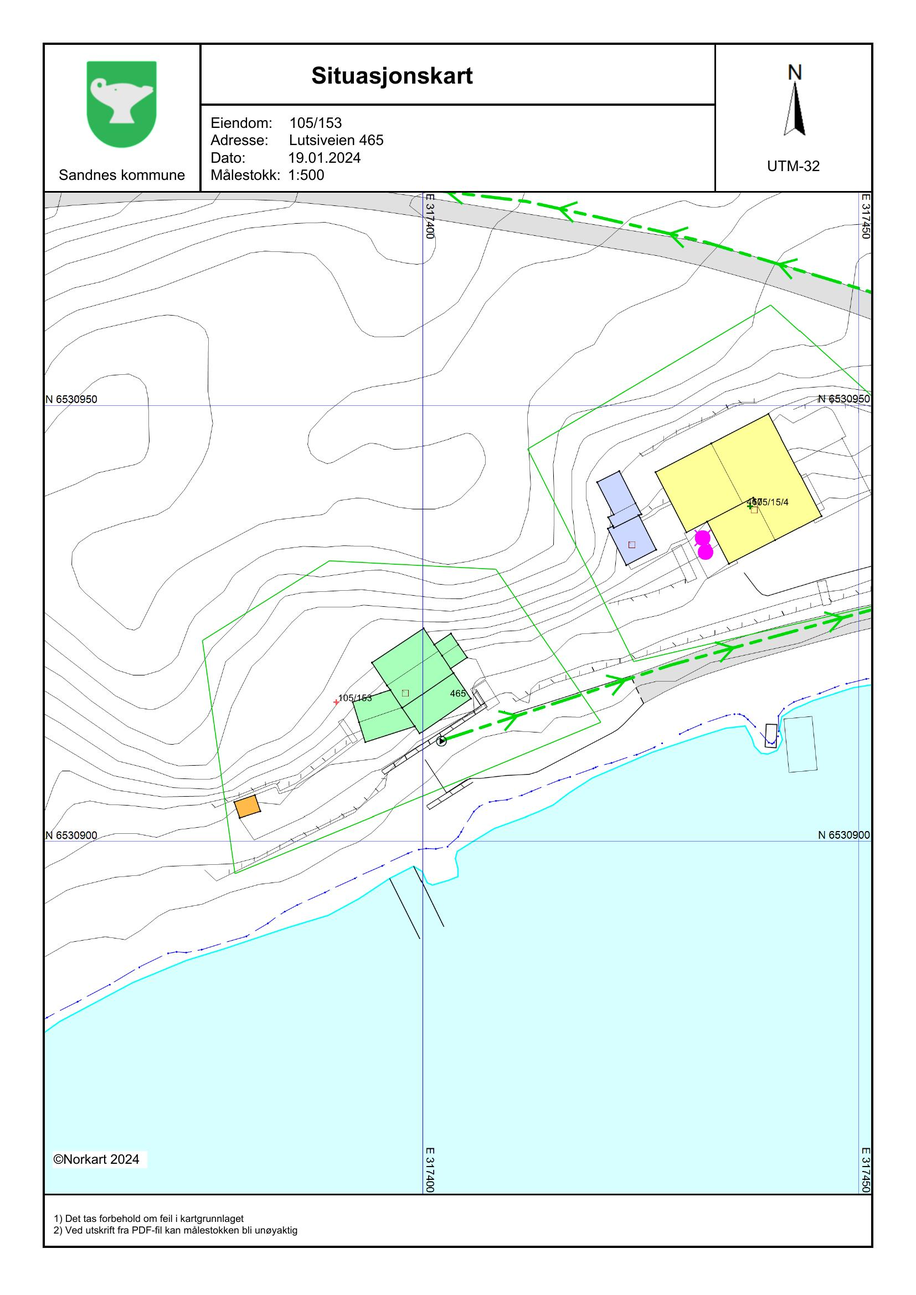situasjonskart: (44, 191, 876, 1198)
